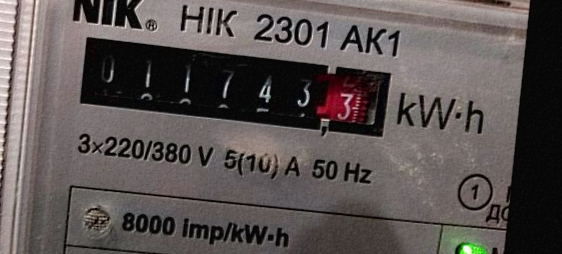0: (96, 49, 119, 87)
1: (179, 59, 197, 94), (142, 55, 155, 89)
3: (292, 73, 314, 110), (334, 90, 356, 124)
4: (255, 70, 275, 105)
7: (216, 65, 238, 100)
screen: (64, 23, 405, 151)
